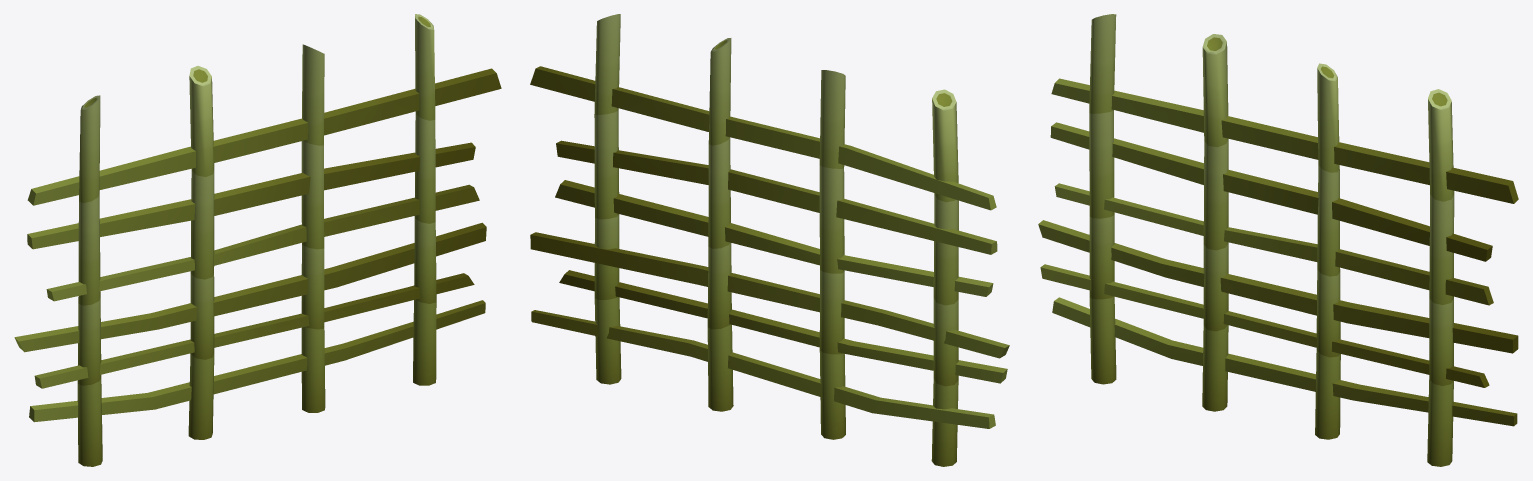
The model's file is SM_Fence_03.fbx.
3 renders of one model, left to right at view 1: azimuth 30°, elevation 25°; view 2: azimuth 150°, elevation 25°; view 3: azimuth 330°, elevation 25°, orthographic.
Parts seen in each view (by area): view 1: SM_Fence_03; view 2: SM_Fence_03; view 3: SM_Fence_03.
Boxes of the visible parts, left/top/right/bottom form: SM_Fence_03: left=14, top=14, right=501, bottom=466; SM_Fence_03: left=530, top=14, right=1009, bottom=466; SM_Fence_03: left=1038, top=14, right=1518, bottom=466.
Size of the model in its own units: 1.28 by 0.9375 by 0.0775.
